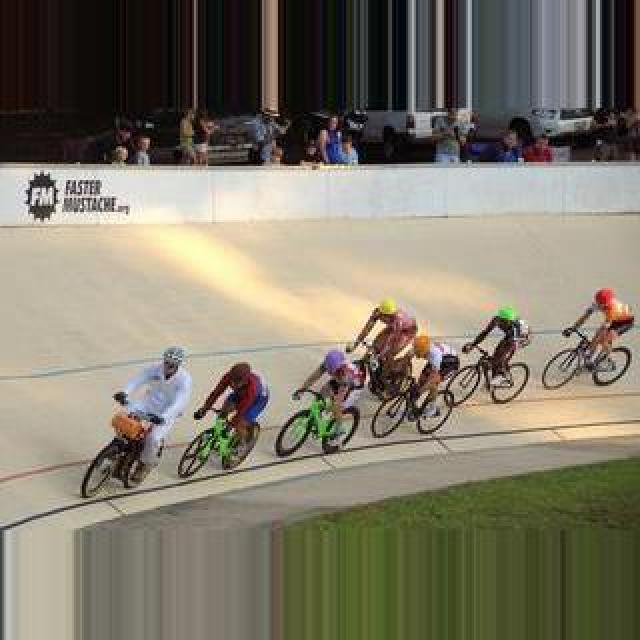MC-Bike: (110, 346, 192, 486), (192, 362, 270, 466), (562, 286, 634, 366), (290, 346, 364, 420), (462, 306, 526, 390), (350, 296, 418, 368), (402, 334, 444, 416)
Person: (80, 408, 168, 498), (178, 404, 262, 478), (370, 366, 456, 438), (276, 388, 362, 458), (542, 326, 634, 390), (444, 342, 532, 406)
